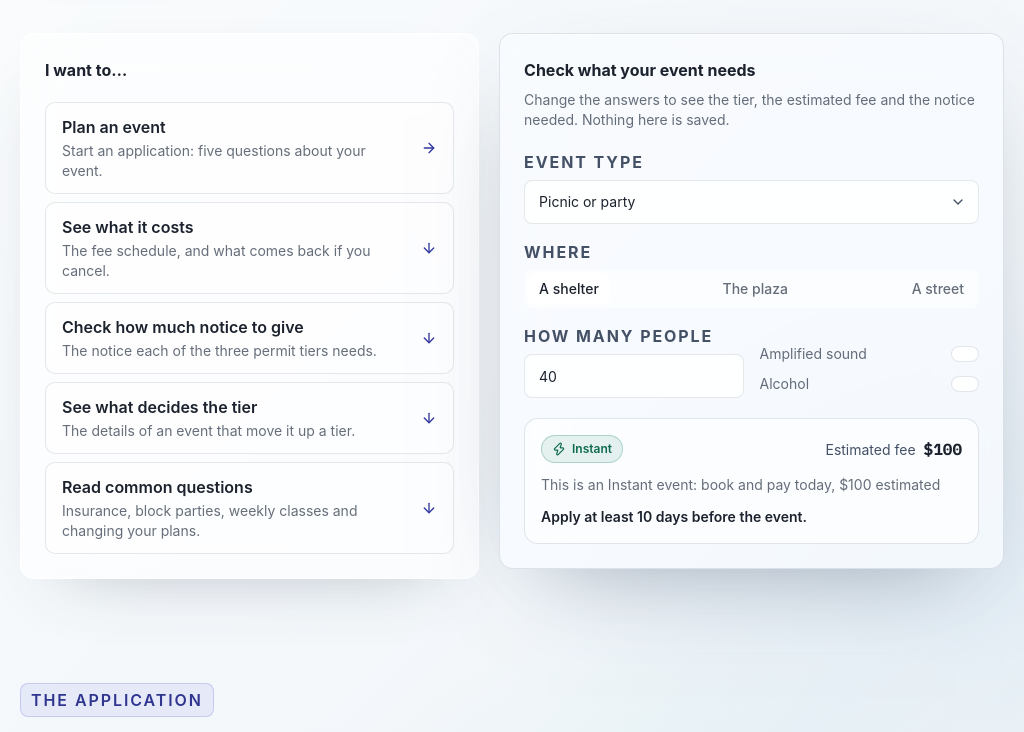
Test: LandingScreen (/) › changing the permit checker (alcohol on) moves the tier to Standard live
(page scrolled)
Step 1. Click the 2nd switch named "Alcohol" → click(965, 384), box [951, 376, 979, 392]
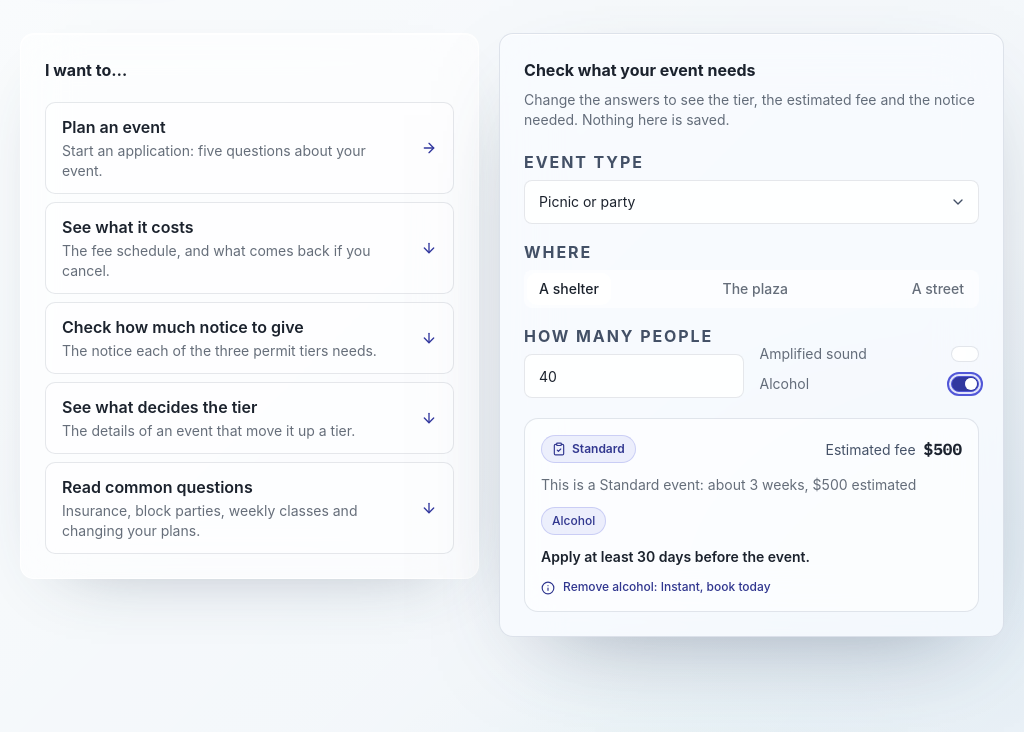
Expected: the text "Standard" is shown, [541, 435, 636, 463]
